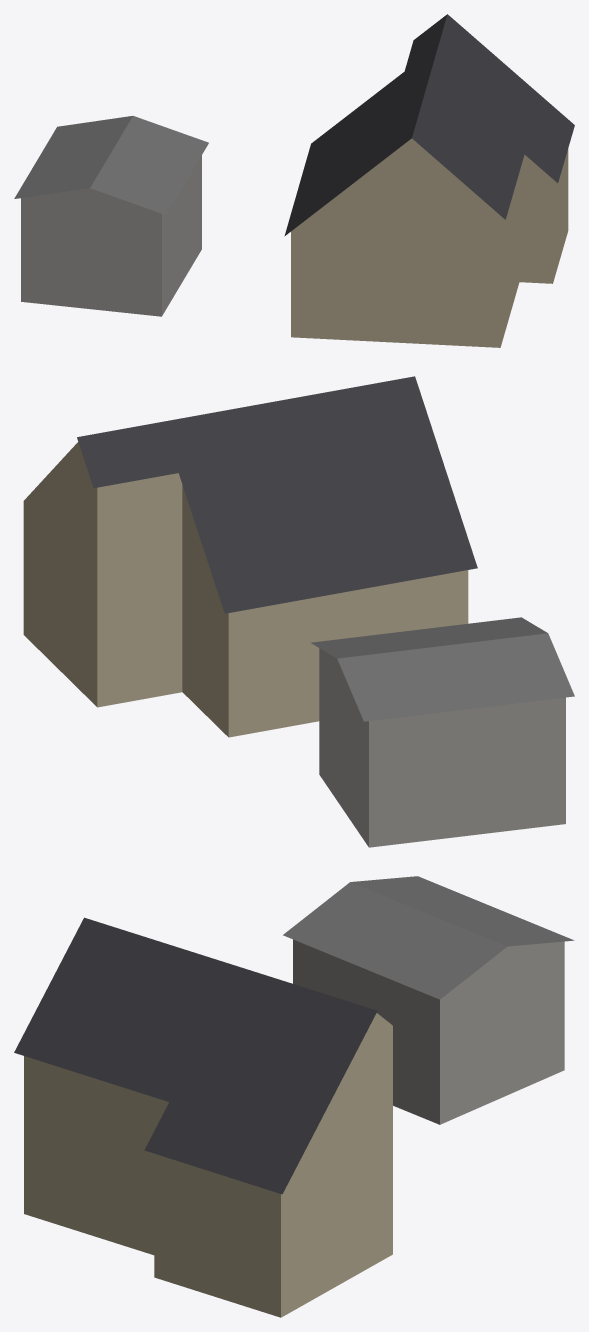
The picture shows the model from 3 angles, top to bottom: view 1: azimuth 30°, elevation 25°; view 2: azimuth 150°, elevation 25°; view 3: azimuth 270°, elevation 25°; orthographic projection. The views are drawn at different scales.
Visible parts, largest first — view 1: buildings; view 2: buildings; view 3: buildings.
Part boxes in pixels (x1=…): buildings: x1=14, y1=14, x2=574, y2=347; buildings: x1=23, y1=376, x2=574, y2=847; buildings: x1=14, y1=876, x2=574, y2=1317.
Bounding box in the file's own units: 30.03 × 11.77 × 23.23.
